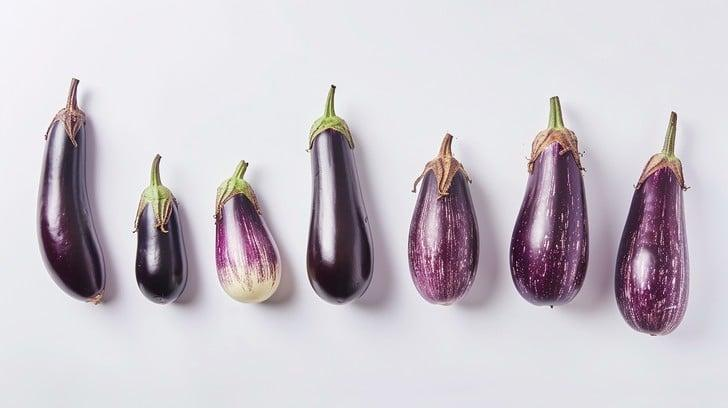1: (409, 134, 478, 304), (216, 162, 280, 301), (135, 157, 186, 303)
eggplant: (510, 145, 587, 304), (616, 170, 688, 334), (39, 125, 104, 299), (307, 130, 372, 302)
